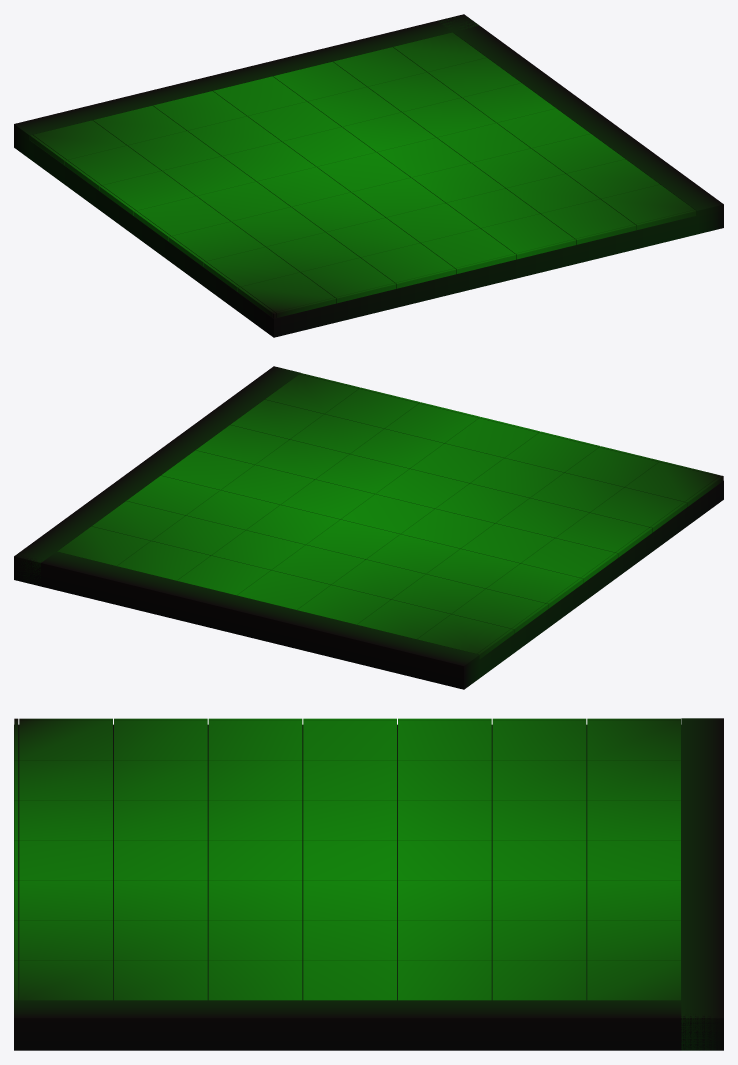
Rendered from via_he_corner.glb.
The picture shows the model from 3 angles, top to bottom: view 1: azimuth 30°, elevation 25°; view 2: azimuth 150°, elevation 25°; view 3: azimuth 270°, elevation 25°; orthographic projection. The views are drawn at different scales.
Visible parts, largest first — view 1: via_he_corner; view 2: via_he_corner; view 3: via_he_corner.
Boxes of the visible parts, x1,y1,x2,y2 form: via_he_corner: (14, 14, 723, 337); via_he_corner: (14, 366, 723, 689); via_he_corner: (14, 718, 723, 1050).
Size of the model in its own units: 3 by 0.15 by 3.
